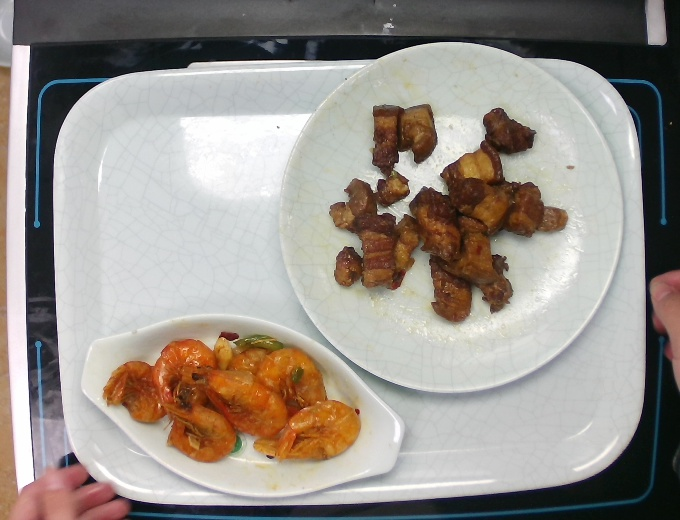JYsf-Da_Yuan_Pan: (274, 38, 628, 398)
JYsf-Yu_Pan: (76, 310, 408, 500)
